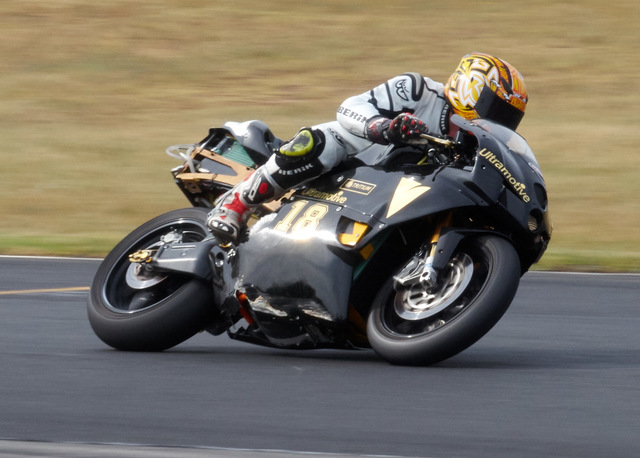helmet: (449, 51, 531, 137)
